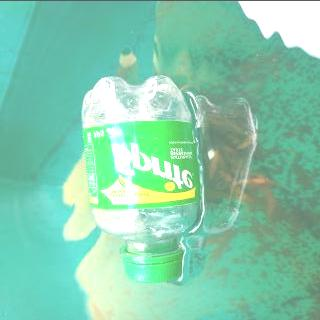bottle: (80, 71, 206, 283)
